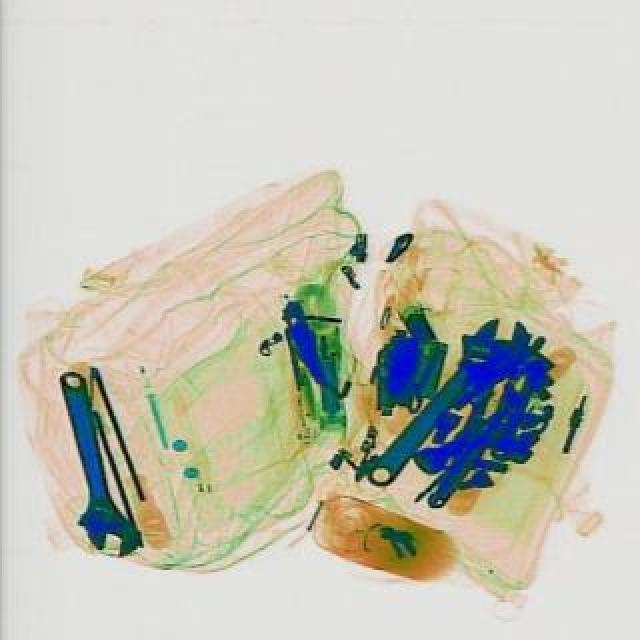scissors: (350, 304, 540, 500), (40, 362, 144, 562)
